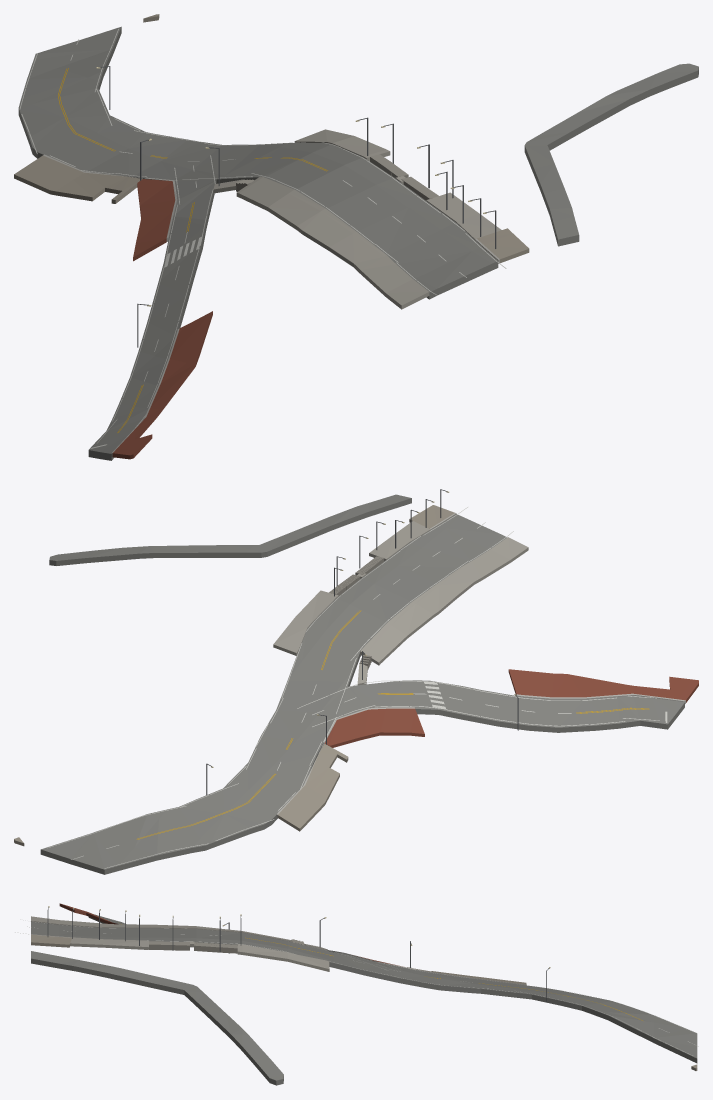
3 renders of one model, top to bottom at view 1: azimuth 30°, elevation 25°; view 2: azimuth 150°, elevation 25°; view 3: azimuth 270°, elevation 25°, orthographic. The views are drawn at different scales.
Size of the model in its own units: 130 by 34 by 150.
